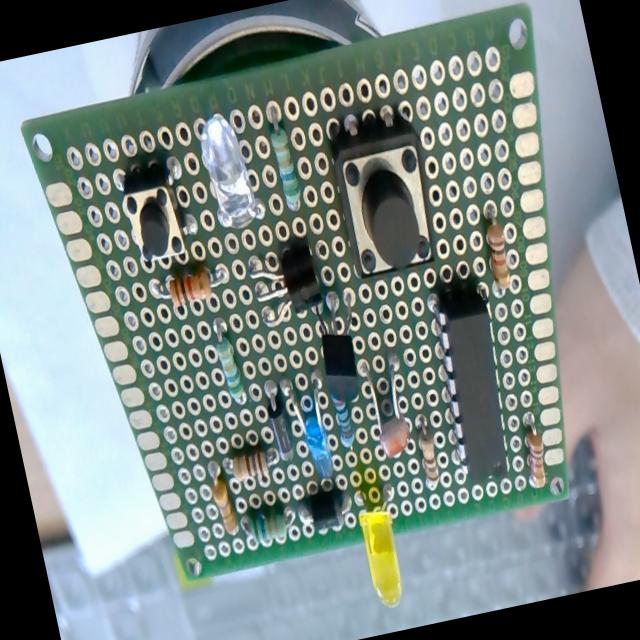cds: (360, 352, 416, 462)
diode: (302, 486, 351, 534), (263, 388, 295, 461)
led: (193, 110, 266, 233), (352, 488, 414, 609), (278, 368, 339, 484)
resistor: (264, 105, 305, 214), (207, 312, 249, 408), (150, 260, 230, 308), (205, 460, 239, 538), (482, 218, 515, 292), (244, 504, 292, 550), (228, 446, 274, 488), (520, 427, 551, 489), (414, 421, 442, 483), (331, 394, 356, 450)
switch: (326, 110, 446, 282), (428, 284, 524, 490), (116, 154, 202, 270)
transistor: (306, 285, 378, 447), (249, 240, 326, 323)
